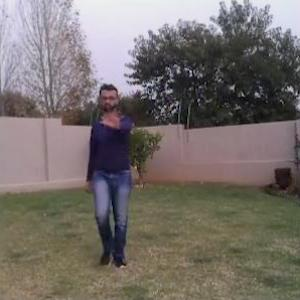follow_hand: (104, 104, 124, 130)
